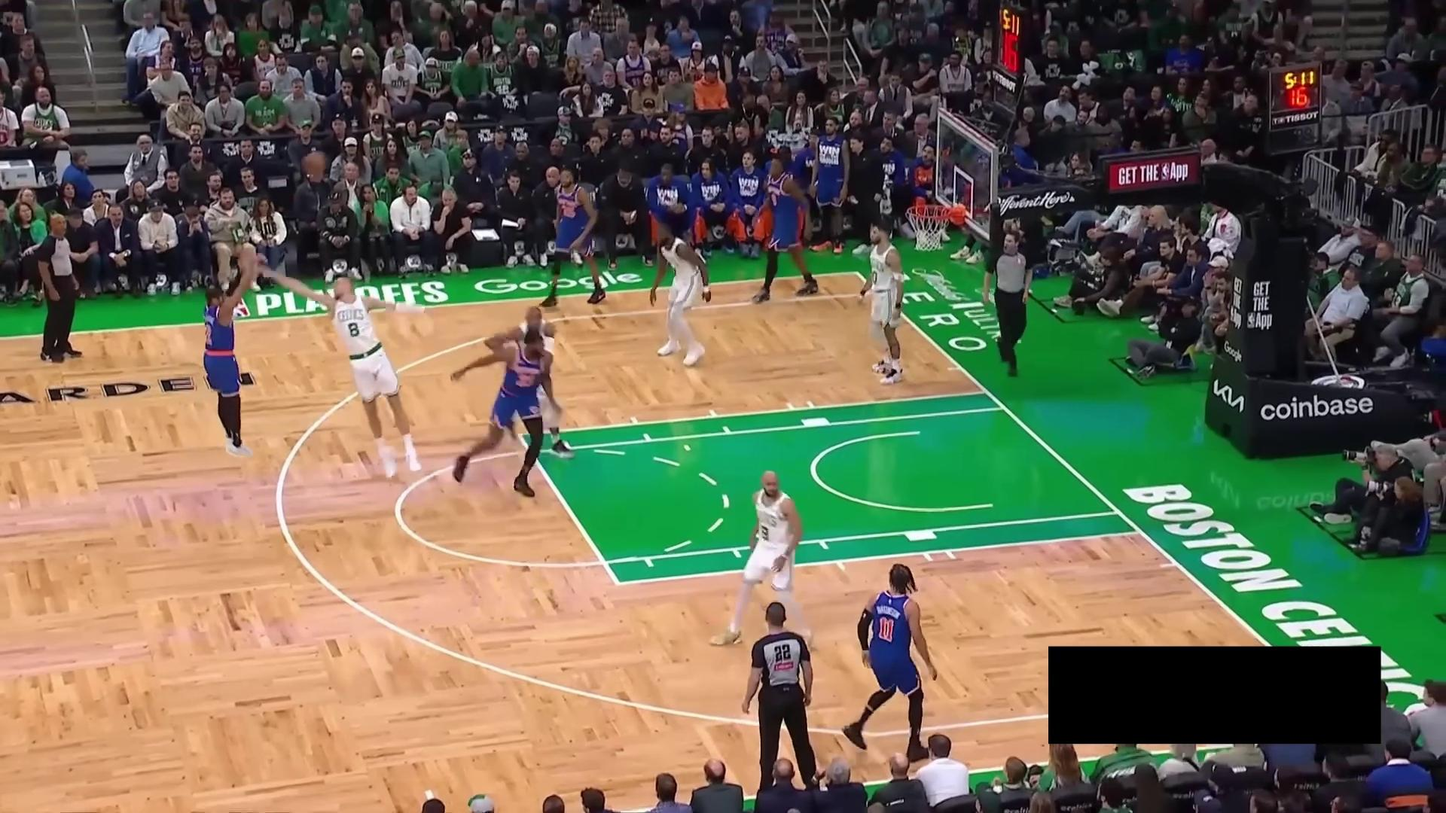ball: (302, 151, 327, 178)
number: (877, 615, 895, 644), (346, 321, 361, 338), (560, 204, 577, 217), (760, 525, 770, 541), (770, 191, 778, 206)
player: (708, 469, 819, 654), (840, 562, 938, 764), (449, 328, 564, 498), (483, 306, 575, 458), (751, 154, 820, 304), (538, 165, 606, 309), (648, 219, 712, 367), (857, 218, 907, 385)
player-jump-shot: (202, 242, 261, 460)
player-shot-block: (253, 257, 435, 480)
referee: (741, 601, 818, 794), (35, 214, 92, 363), (982, 230, 1036, 376)
rim: (906, 203, 952, 220)
